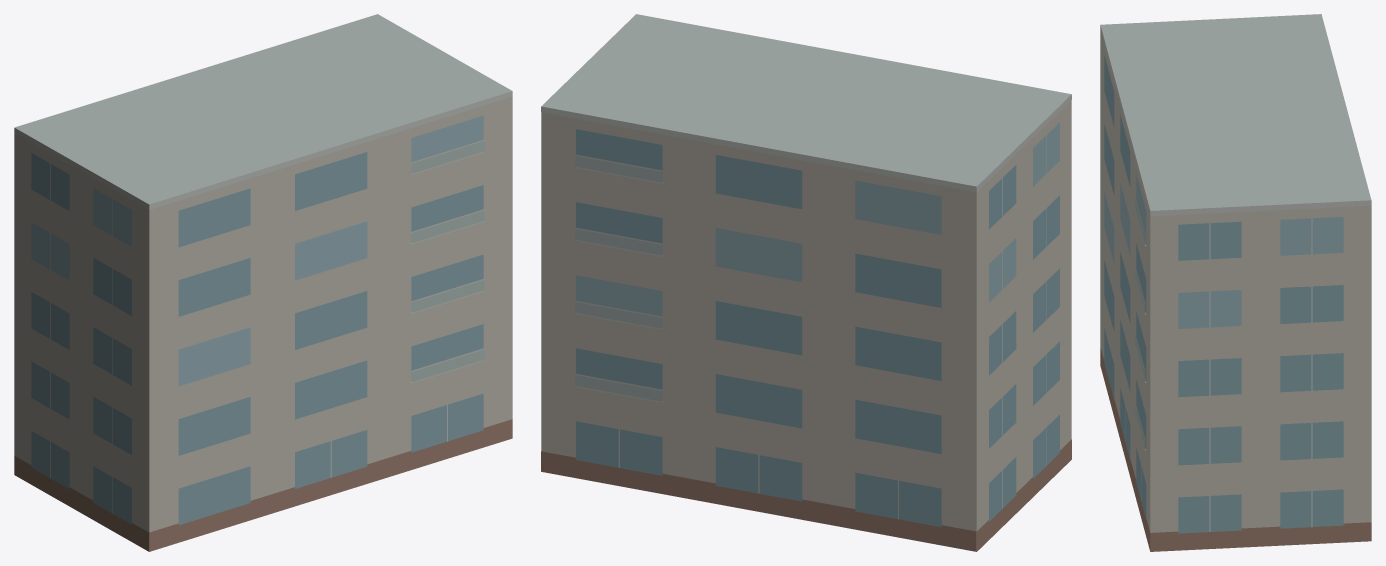
Rendered from survey-upis-32664894.glb.
The picture shows the model from 3 angles, left to right: view 1: azimuth 30°, elevation 25°; view 2: azimuth 150°, elevation 25°; view 3: azimuth 270°, elevation 25°; orthographic projection. The views are drawn at different scales.
Parts seen in each view (by area): view 1: survey-upis-32664894.tmp; view 2: survey-upis-32664894.tmp; view 3: survey-upis-32664894.tmp.
Part boxes in pixels (box(x1,y1,x2,y2)): survey-upis-32664894.tmp: box(14, 14, 512, 551); survey-upis-32664894.tmp: box(541, 14, 1071, 551); survey-upis-32664894.tmp: box(1100, 14, 1371, 551).
Size of the model in its own units: 18.96 by 15.3 by 11.03.
